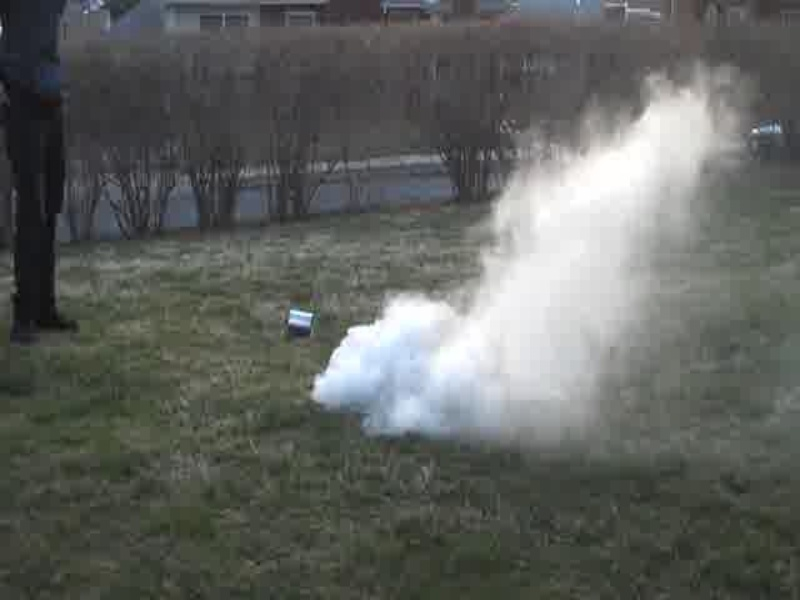smoke: (312, 262, 591, 432)
